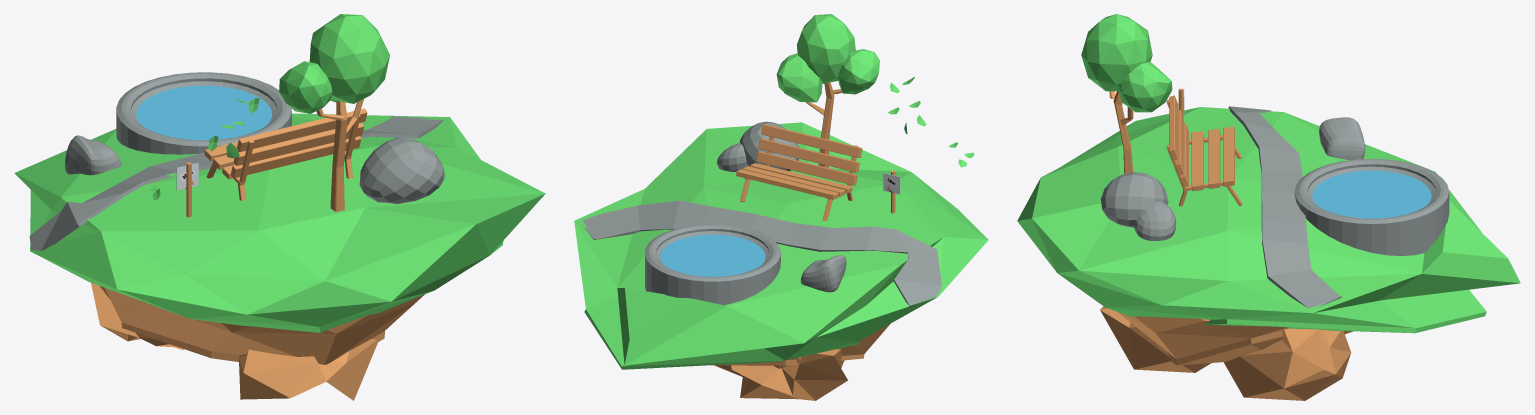
Rendered from park.glb.
3 views of the same model, side by side, from view 1: azimuth 30°, elevation 25°; view 2: azimuth 150°, elevation 25°; view 3: azimuth 270°, elevation 25° (orthographic). The views are drawn at different scales.
Parts seen in each view (by area): view 1: Icosphere.003, Cylinder, Icosphere.004, Cube.020, Cube, Icosphere.006, Icosphere.002, Plane.001, Icosphere, Cube.019, Icosphere.005; view 2: Icosphere.003, Plane.001, Cylinder, Cube, Icosphere.005, Cube.020, Icosphere.002, Icosphere.001, Icosphere, Icosphere.004, Cube.019; view 3: Icosphere.003, Cylinder, Plane.001, Icosphere.007, Cube.020, Icosphere.004, Cube, Icosphere.002, Icosphere.006, Icosphere.001, Cube.019.
Part boxes in pixels (x1,y1,x2,y2): Icosphere.003: (14, 113, 545, 332); Cylinder: (116, 72, 291, 154); Icosphere.004: (104, 287, 424, 364); Cube.020: (65, 135, 444, 203); Cube: (204, 108, 367, 200); Icosphere.006: (239, 339, 377, 400); Icosphere.002: (309, 14, 389, 103); Plane.001: (29, 116, 443, 250); Icosphere: (279, 61, 332, 113); Cube.019: (316, 99, 363, 211); Icosphere.005: (91, 283, 183, 349); Icosphere.003: (574, 122, 988, 369); Plane.001: (582, 200, 941, 307); Cylinder: (645, 224, 780, 305); Cube: (736, 124, 862, 221); Icosphere.005: (731, 349, 847, 400); Cube.020: (717, 121, 846, 292); Icosphere.002: (797, 14, 855, 83); Icosphere.001: (776, 53, 822, 102); Icosphere: (838, 49, 879, 94); Icosphere.004: (713, 323, 890, 365); Cube.019: (806, 82, 842, 167); Icosphere.003: (1017, 107, 1520, 333); Cylinder: (1294, 158, 1449, 255); Plane.001: (1228, 106, 1341, 308); Icosphere.007: (1223, 328, 1351, 400); Cube.020: (1101, 117, 1365, 240); Icosphere.004: (1118, 312, 1352, 365); Cube: (1166, 95, 1242, 206); Icosphere.002: (1081, 14, 1152, 91); Icosphere.006: (1100, 306, 1211, 372); Icosphere.001: (1118, 61, 1172, 112); Cube.019: (1109, 91, 1133, 173).
Size of the model in its own units: 18.99 by 16.35 by 21.2.
Materials: 5 (1 with a texture image).
